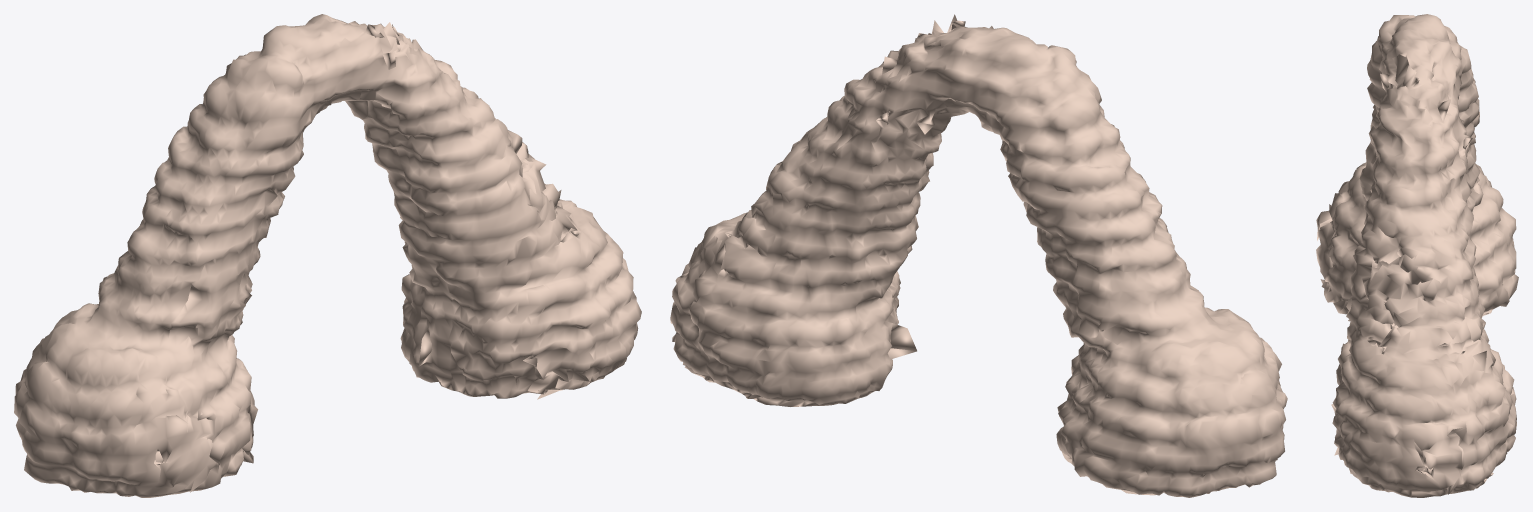
Rendered from SM_RainbowRock.fbx.
3 renders of one model, left to right at view 1: azimuth 30°, elevation 25°; view 2: azimuth 150°, elevation 25°; view 3: azimuth 270°, elevation 25°, orthographic. The views are drawn at different scales.
Visible parts, largest first — view 1: SM_RainbowRock; view 2: SM_RainbowRock; view 3: SM_RainbowRock.
Part boxes in pixels (x1,y1,x2,y2): SM_RainbowRock: [14, 14, 641, 497]; SM_RainbowRock: [670, 14, 1287, 497]; SM_RainbowRock: [1316, 14, 1518, 497].
Size of the model in its own units: 4795 by 2897 by 1573.
